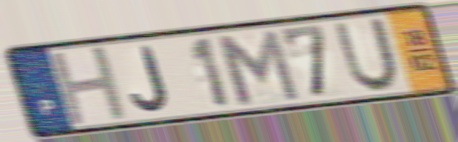1: (187, 35, 232, 112)
7: (277, 22, 330, 101)
H: (47, 43, 133, 129)
J: (128, 43, 173, 115)
M: (211, 27, 304, 107)
U: (331, 16, 403, 94)
